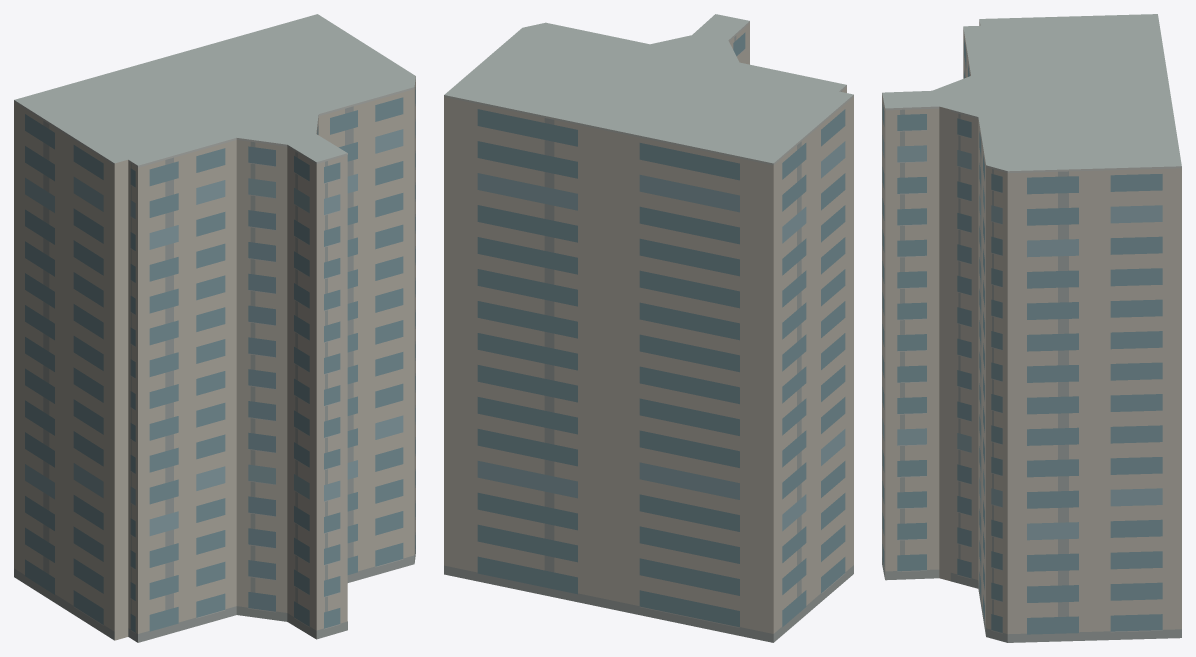
The model's file is residential-b4d66075-1cb6-40ff-aab4-a8b75d41a335.glb.
The picture shows the model from 3 angles, left to right: view 1: azimuth 30°, elevation 25°; view 2: azimuth 150°, elevation 25°; view 3: azimuth 270°, elevation 25°; orthographic projection.
Parts seen in each view (by area): view 1: residential-b4d66075-1cb6-40ff-aab4-a8b75d41a335.tmp; view 2: residential-b4d66075-1cb6-40ff-aab4-a8b75d41a335.tmp; view 3: residential-b4d66075-1cb6-40ff-aab4-a8b75d41a335.tmp.
Part boxes in pixels (left/top/right/bottom): residential-b4d66075-1cb6-40ff-aab4-a8b75d41a335.tmp: left=14, top=14, right=415, bottom=642; residential-b4d66075-1cb6-40ff-aab4-a8b75d41a335.tmp: left=444, top=14, right=853, bottom=642; residential-b4d66075-1cb6-40ff-aab4-a8b75d41a335.tmp: left=882, top=14, right=1181, bottom=642.
Bounding box in the file's own units: 41.46 × 58 × 33.42.
